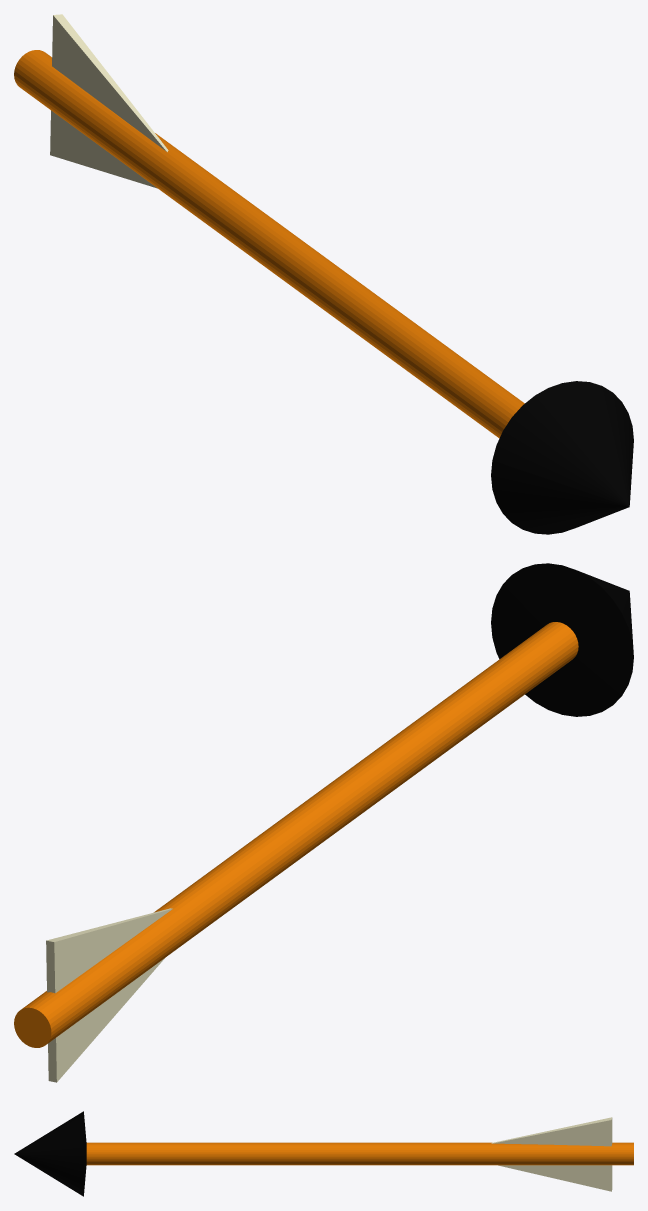
The model's file is Arrow.fbx.
The picture shows the model from 3 angles, top to bottom: view 1: azimuth 30°, elevation 25°; view 2: azimuth 150°, elevation 25°; view 3: azimuth 270°, elevation 25°; orthographic projection. The views are drawn at different scales.
Parts seen in each view (by area): view 1: Цилиндр; view 2: Цилиндр; view 3: Цилиндр.
Boxes of the visible parts, <box> form: Цилиндр: <box>14,14,633,534</box>; Цилиндр: <box>14,563,633,1082</box>; Цилиндр: <box>14,1111,633,1196</box>.
Bounding box in the file's own units: 31.91 × 31.91 × 231.
